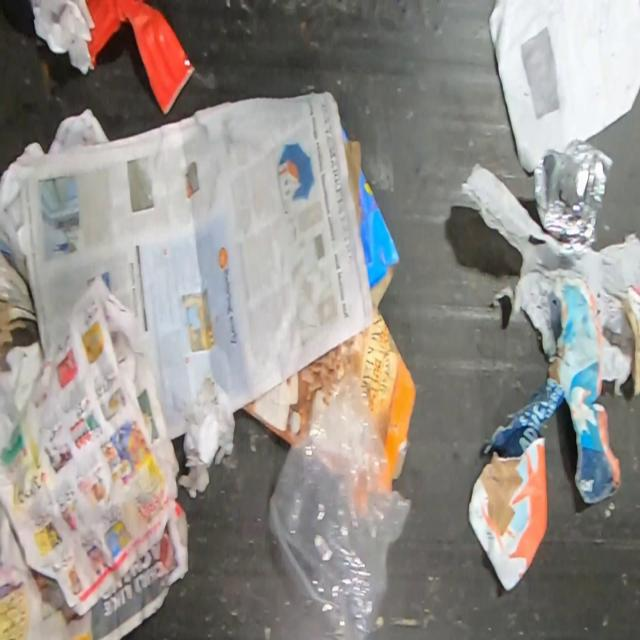cardboard: (240, 299, 417, 490), (342, 122, 402, 308), (0, 246, 40, 345)
metal: (532, 138, 614, 250)
rigid_plastic: (84, 0, 196, 115)
soft_plastic: (459, 161, 640, 399), (268, 375, 414, 640)
